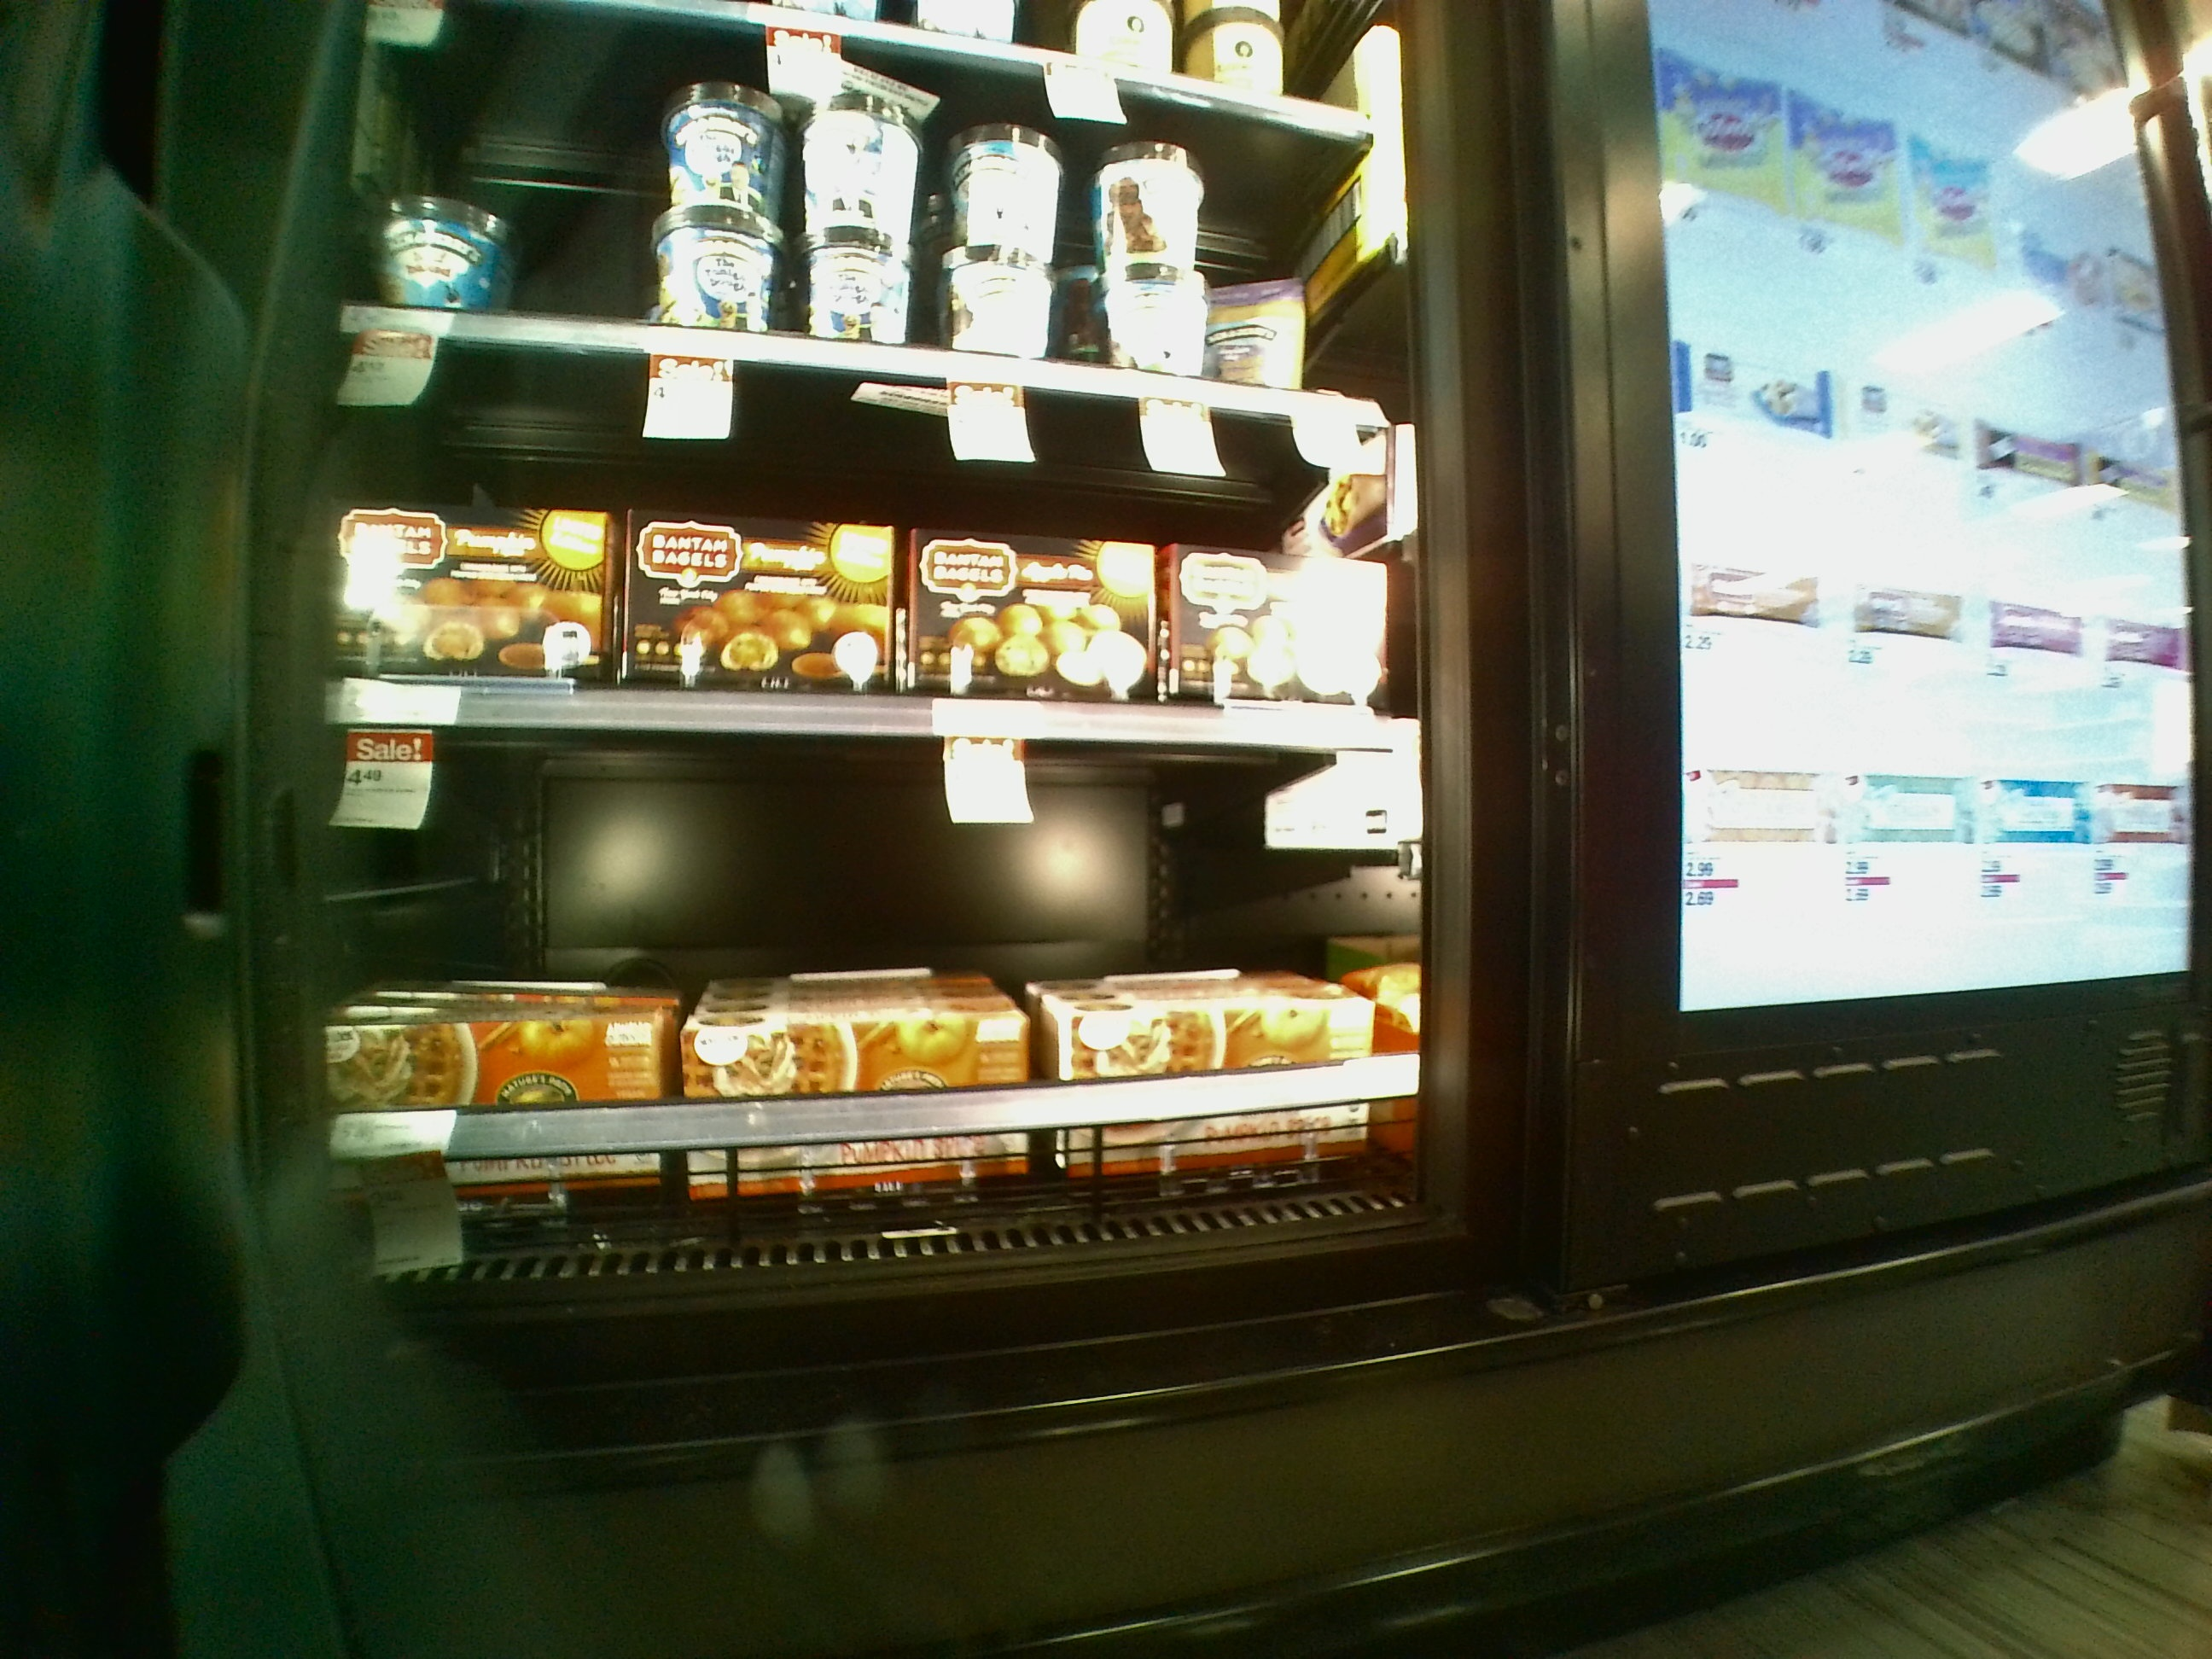shelf: (298, 721, 1442, 1276), (322, 321, 1433, 758)
